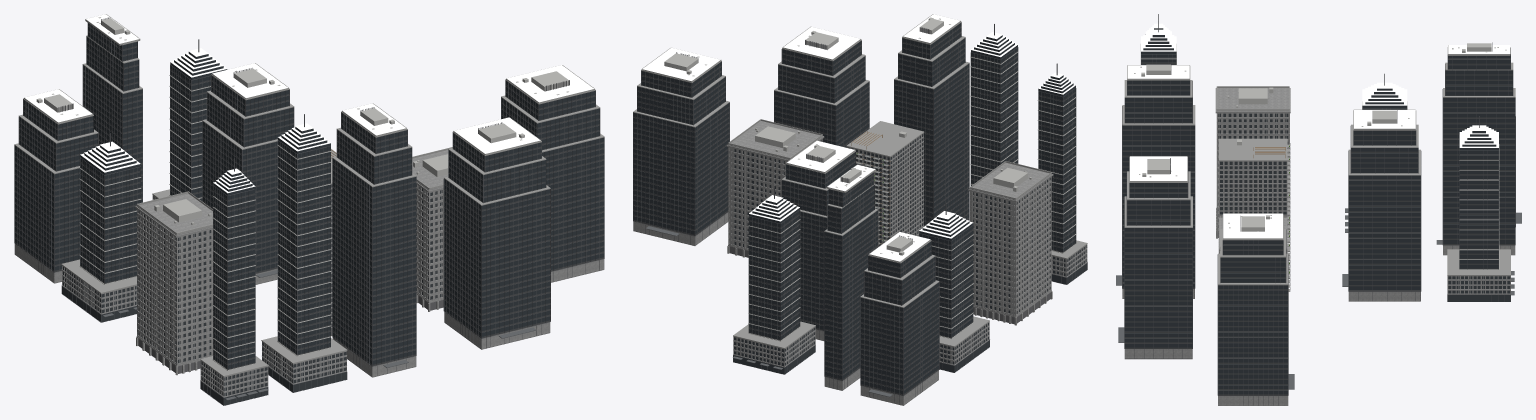
The picture shows the model from 3 angles, left to right: view 1: azimuth 30°, elevation 25°; view 2: azimuth 150°, elevation 25°; view 3: azimuth 270°, elevation 25°; orthographic projection. The views are drawn at different scales.
Parts seen in each view (by area): view 1: City16__C16Glass, City16__C16Alu, City16__C16Spandrel, City16__C16Stone, City16__WindowGlass, City16__C16Light, City16__C16Coping, City16__C16Band, City16__C16Panel, City16__C16Plant, City16__C16Frame, City16__C16StoneDark (+2 smaller); view 2: City16__C16Glass, City16__C16Alu, City16__C16Spandrel, City16__C16Stone, City16__WindowGlass, City16__C16Coping, City16__C16Light, City16__C16Render, City16__C16Plant, City16__C16Band, City16__C16Panel, City16__C16StoneDark (+3 smaller); view 3: City16__C16Glass, City16__C16Spandrel, City16__C16Alu, City16__C16Coping, City16__C16Light, City16__C16Stone, City16__WindowGlass, City16__C16Render, City16__C16Plant, City16__C16Band, City16__C16Panel, City16__C16Canopy (+1 smaller).
Boxes of the visible parts, x1=… form: City16__C16Glass: x1=14, y1=23, x2=604, y2=368; City16__C16Alu: x1=14, y1=17, x2=604, y2=405; City16__C16Spandrel: x1=15, y1=25, x2=604, y2=369; City16__C16Stone: x1=15, y1=150, x2=604, y2=377; City16__WindowGlass: x1=62, y1=184, x2=442, y2=405; City16__C16Light: x1=24, y1=14, x2=593, y2=193; City16__C16Coping: x1=14, y1=14, x2=604, y2=376; City16__C16Band: x1=79, y1=75, x2=331, y2=370; City16__C16Panel: x1=61, y1=195, x2=346, y2=397; City16__C16Plant: x1=36, y1=17, x2=569, y2=224; City16__C16Frame: x1=79, y1=185, x2=441, y2=395; City16__C16StoneDark: x1=135, y1=182, x2=443, y2=375; City16__C16Glass: x1=633, y1=23, x2=1075, y2=394; City16__C16Alu: x1=633, y1=22, x2=1087, y2=404; City16__C16Spandrel: x1=633, y1=26, x2=1075, y2=395; City16__C16Stone: x1=633, y1=121, x2=1051, y2=405; City16__WindowGlass: x1=731, y1=134, x2=1087, y2=374; City16__C16Coping: x1=633, y1=14, x2=1087, y2=348; City16__C16Light: x1=642, y1=14, x2=1075, y2=261; City16__C16Render: x1=847, y1=133, x2=923, y2=246; City16__C16Plant: x1=664, y1=17, x2=1031, y2=255; City16__C16Band: x1=748, y1=51, x2=1076, y2=341; City16__C16Panel: x1=733, y1=244, x2=1087, y2=367; City16__C16StoneDark: x1=726, y1=136, x2=1053, y2=325; City16__C16Glass: x1=1122, y1=28, x2=1515, y2=394; City16__C16Spandrel: x1=1122, y1=57, x2=1515, y2=395; City16__C16Alu: x1=1122, y1=14, x2=1515, y2=405; City16__C16Coping: x1=1122, y1=45, x2=1515, y2=291; City16__C16Light: x1=1127, y1=23, x2=1510, y2=238; City16__C16Stone: x1=1122, y1=88, x2=1515, y2=405; City16__WindowGlass: x1=1218, y1=113, x2=1510, y2=301; City16__C16Render: x1=1218, y1=161, x2=1287, y2=253; City16__C16Plant: x1=1134, y1=43, x2=1506, y2=243; City16__C16Band: x1=1140, y1=44, x2=1499, y2=269; City16__C16Panel: x1=1447, y1=275, x2=1510, y2=294; City16__C16Canopy: x1=1116, y1=208, x2=1521, y2=389.
Bounding box in the file's own units: 282 × 162 × 251.
Materials: 19 (4 with a texture image).
